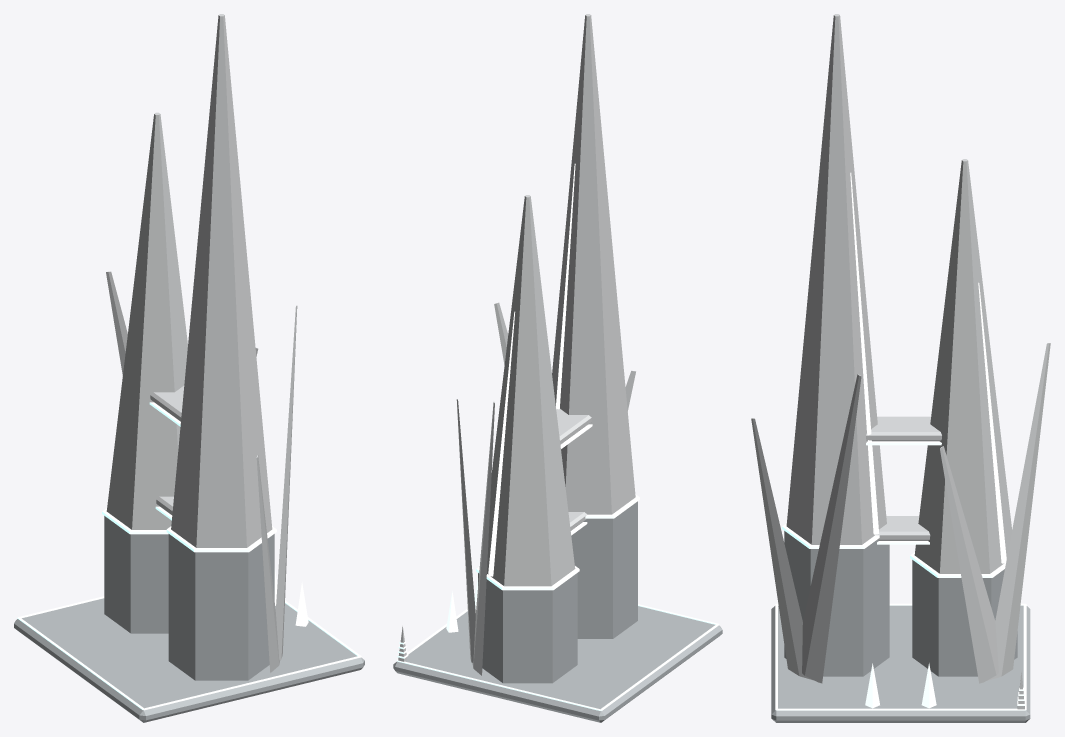
The model's file is zone_high_6_t4.glb.
3 renders of one model, left to right at view 1: azimuth 30°, elevation 25°; view 2: azimuth 150°, elevation 25°; view 3: azimuth 270°, elevation 25°, orthographic. The views are drawn at different scales.
Parts seen in each view (by area): view 1: zone_high_6_t4, detail; view 2: zone_high_6_t4, detail; view 3: zone_high_6_t4, detail.
Part boxes in pixels (box(x1,y1,x2,y2)): zone_high_6_t4: box(14, 14, 364, 722); detail: box(17, 596, 361, 710); zone_high_6_t4: box(393, 14, 722, 722); detail: box(396, 604, 719, 710); zone_high_6_t4: box(751, 14, 1050, 722); detail: box(775, 603, 1026, 710).
Bounding box in the file's own units: 27.5 × 77.37 × 31.83.
